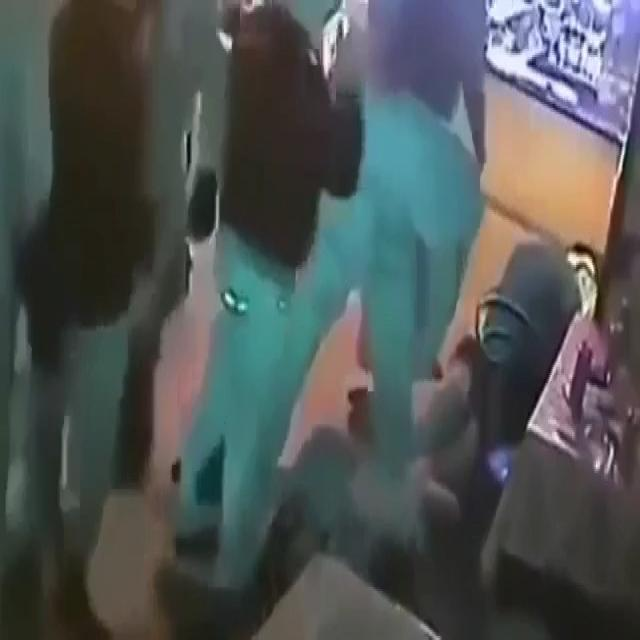fight: (217, 2, 470, 414)
